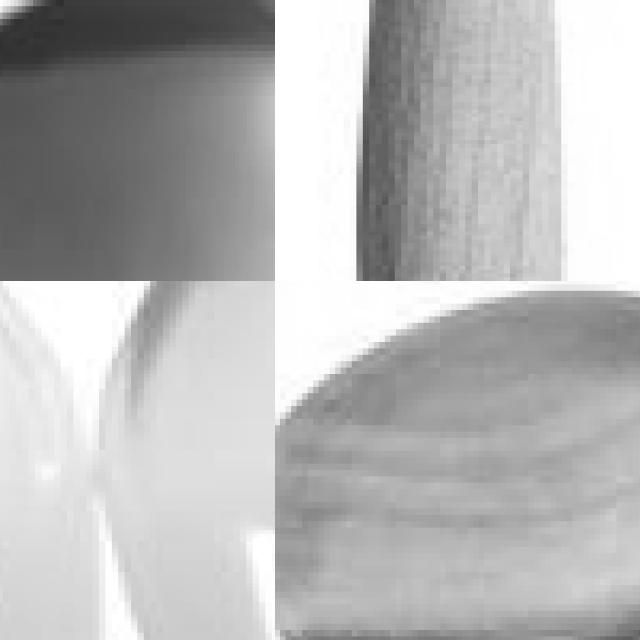spoons: (285, 281, 640, 640), (0, 0, 275, 281)
